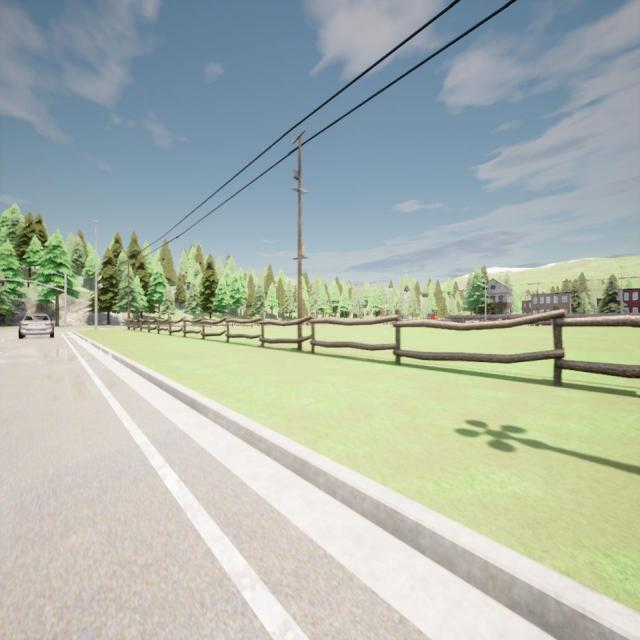Vehicle: (19, 314, 54, 338)
traffic_light: (27, 280, 30, 288), (2, 279, 4, 286)
